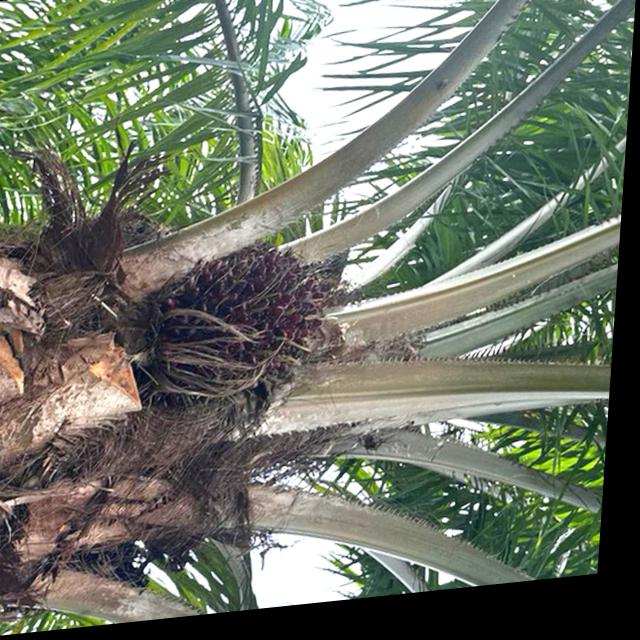ripe: (162, 236, 337, 416)
